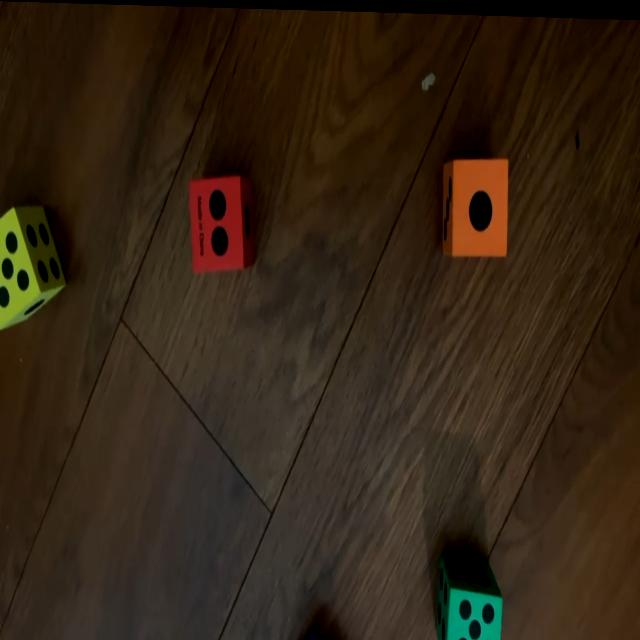cube: (187, 171, 255, 275), (434, 553, 504, 640)
